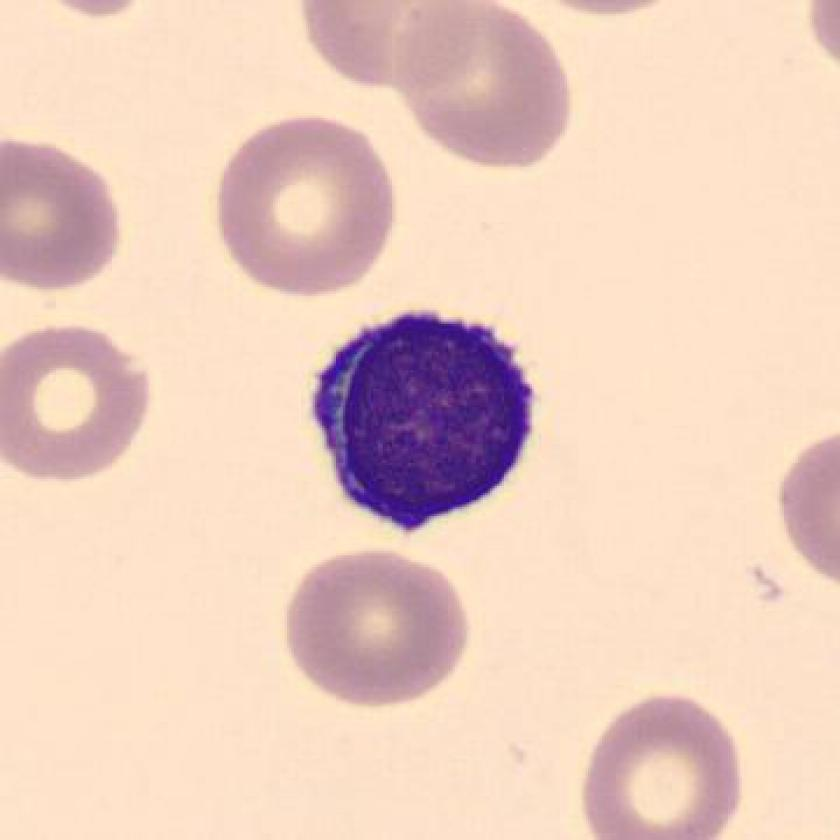lymphocyte: (298, 290, 557, 545)
